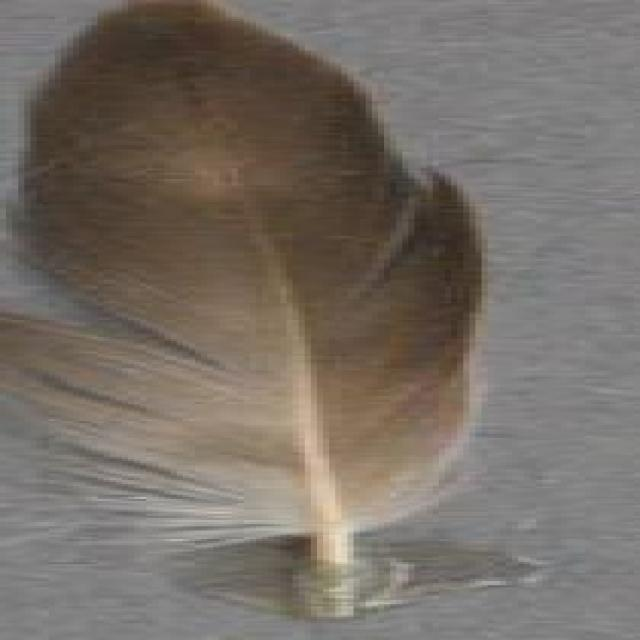feather: (0, 0, 488, 602)
